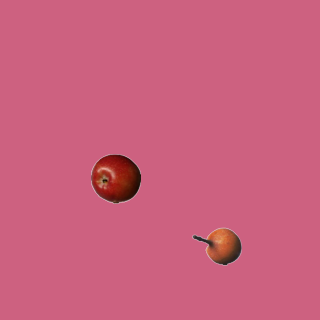Apple Braeburn: (90, 153, 140, 203)
Granadilla: (191, 221, 241, 271)
